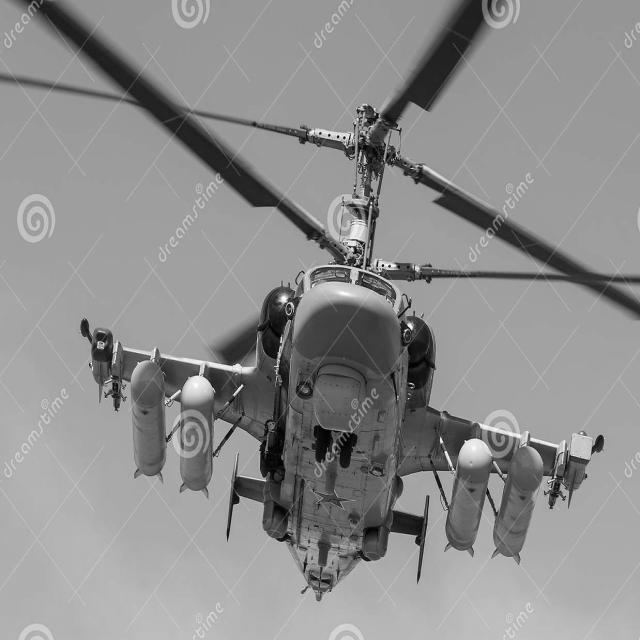helicopter: (1, 1, 640, 610)
